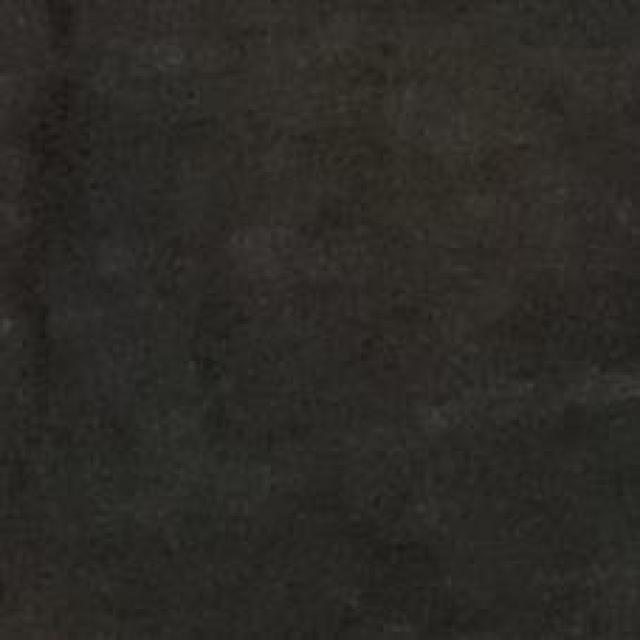Crack: (0, 0, 290, 640)
